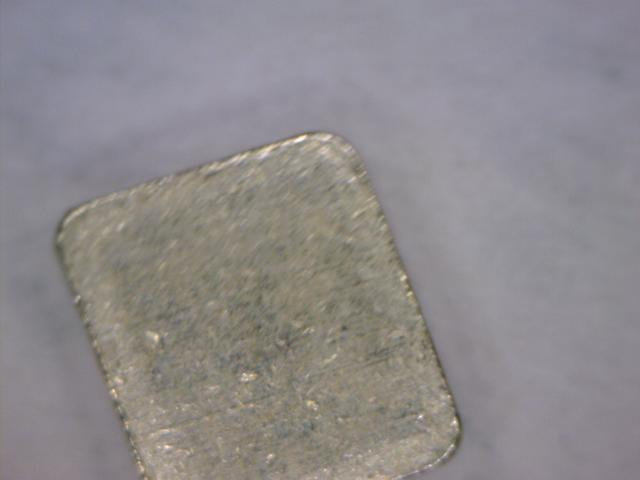ok: (48, 118, 471, 474)
